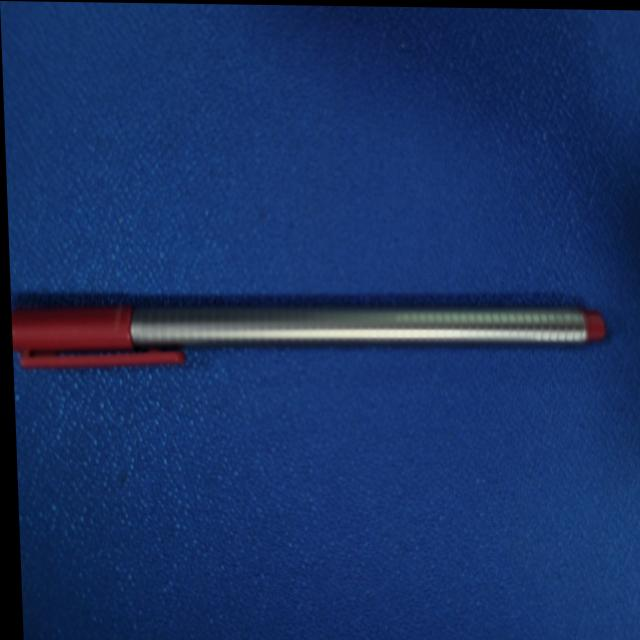caneta: (8, 263, 614, 414)
